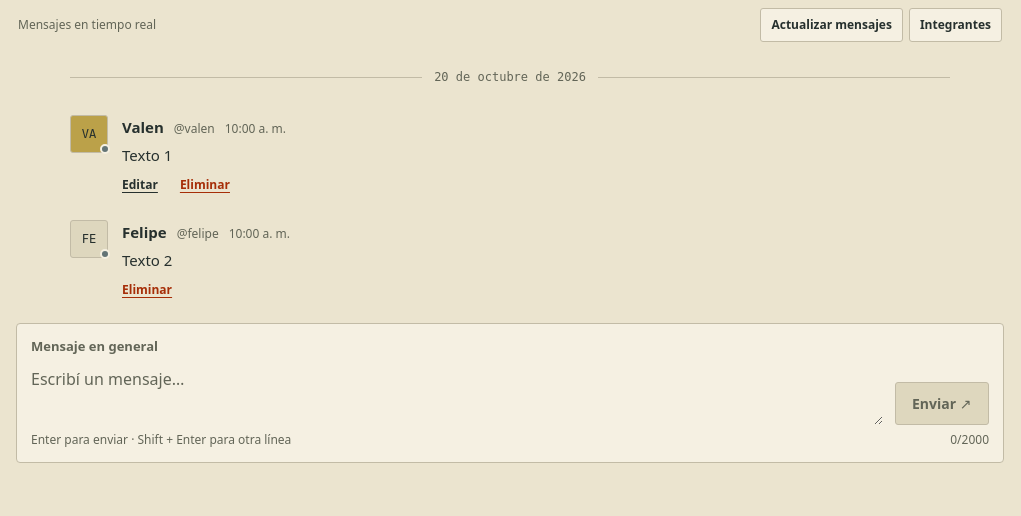
un fallo de envío conserva el borrador y evita envíos repetidos
Type "Pendiente" into the text box labelled "Mensaje en general".
click(457, 393); type("Pendiente")  # box [31,360,883,426]
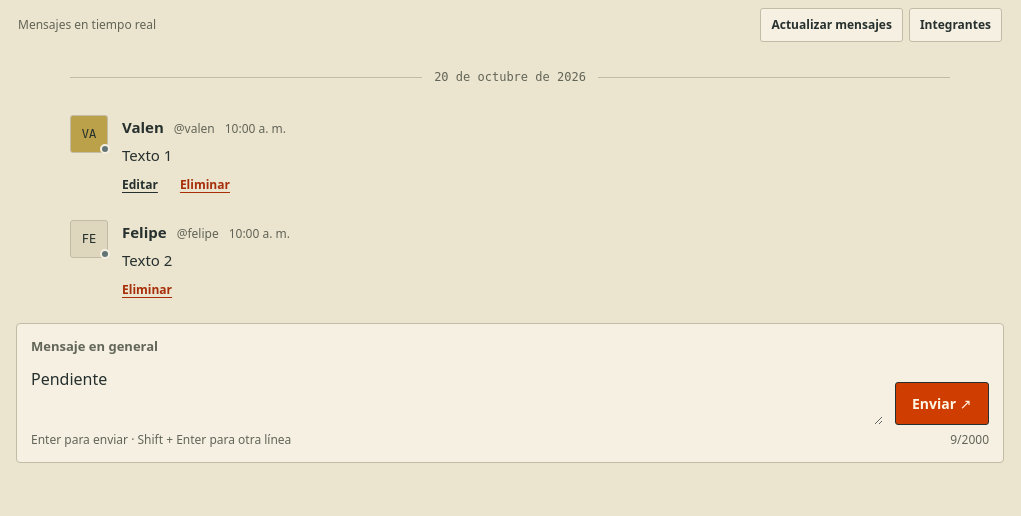
Submit the form labelled "Mensaje en general", box [16,323,1004,463]
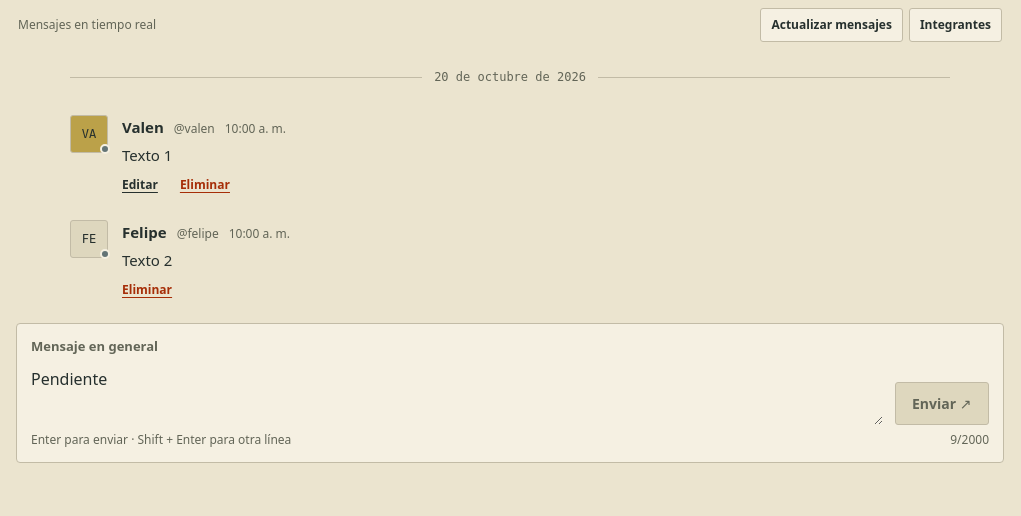
Submit the form labelled "Mensaje en general", box [16,323,1004,463]
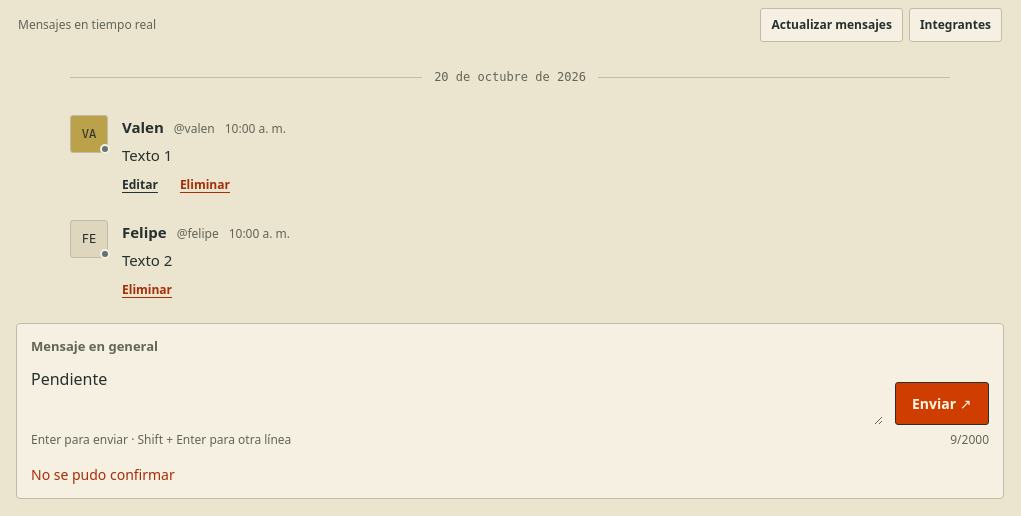
Check: the message reads "No se pudo confirmar", box [31,465,175,484]
